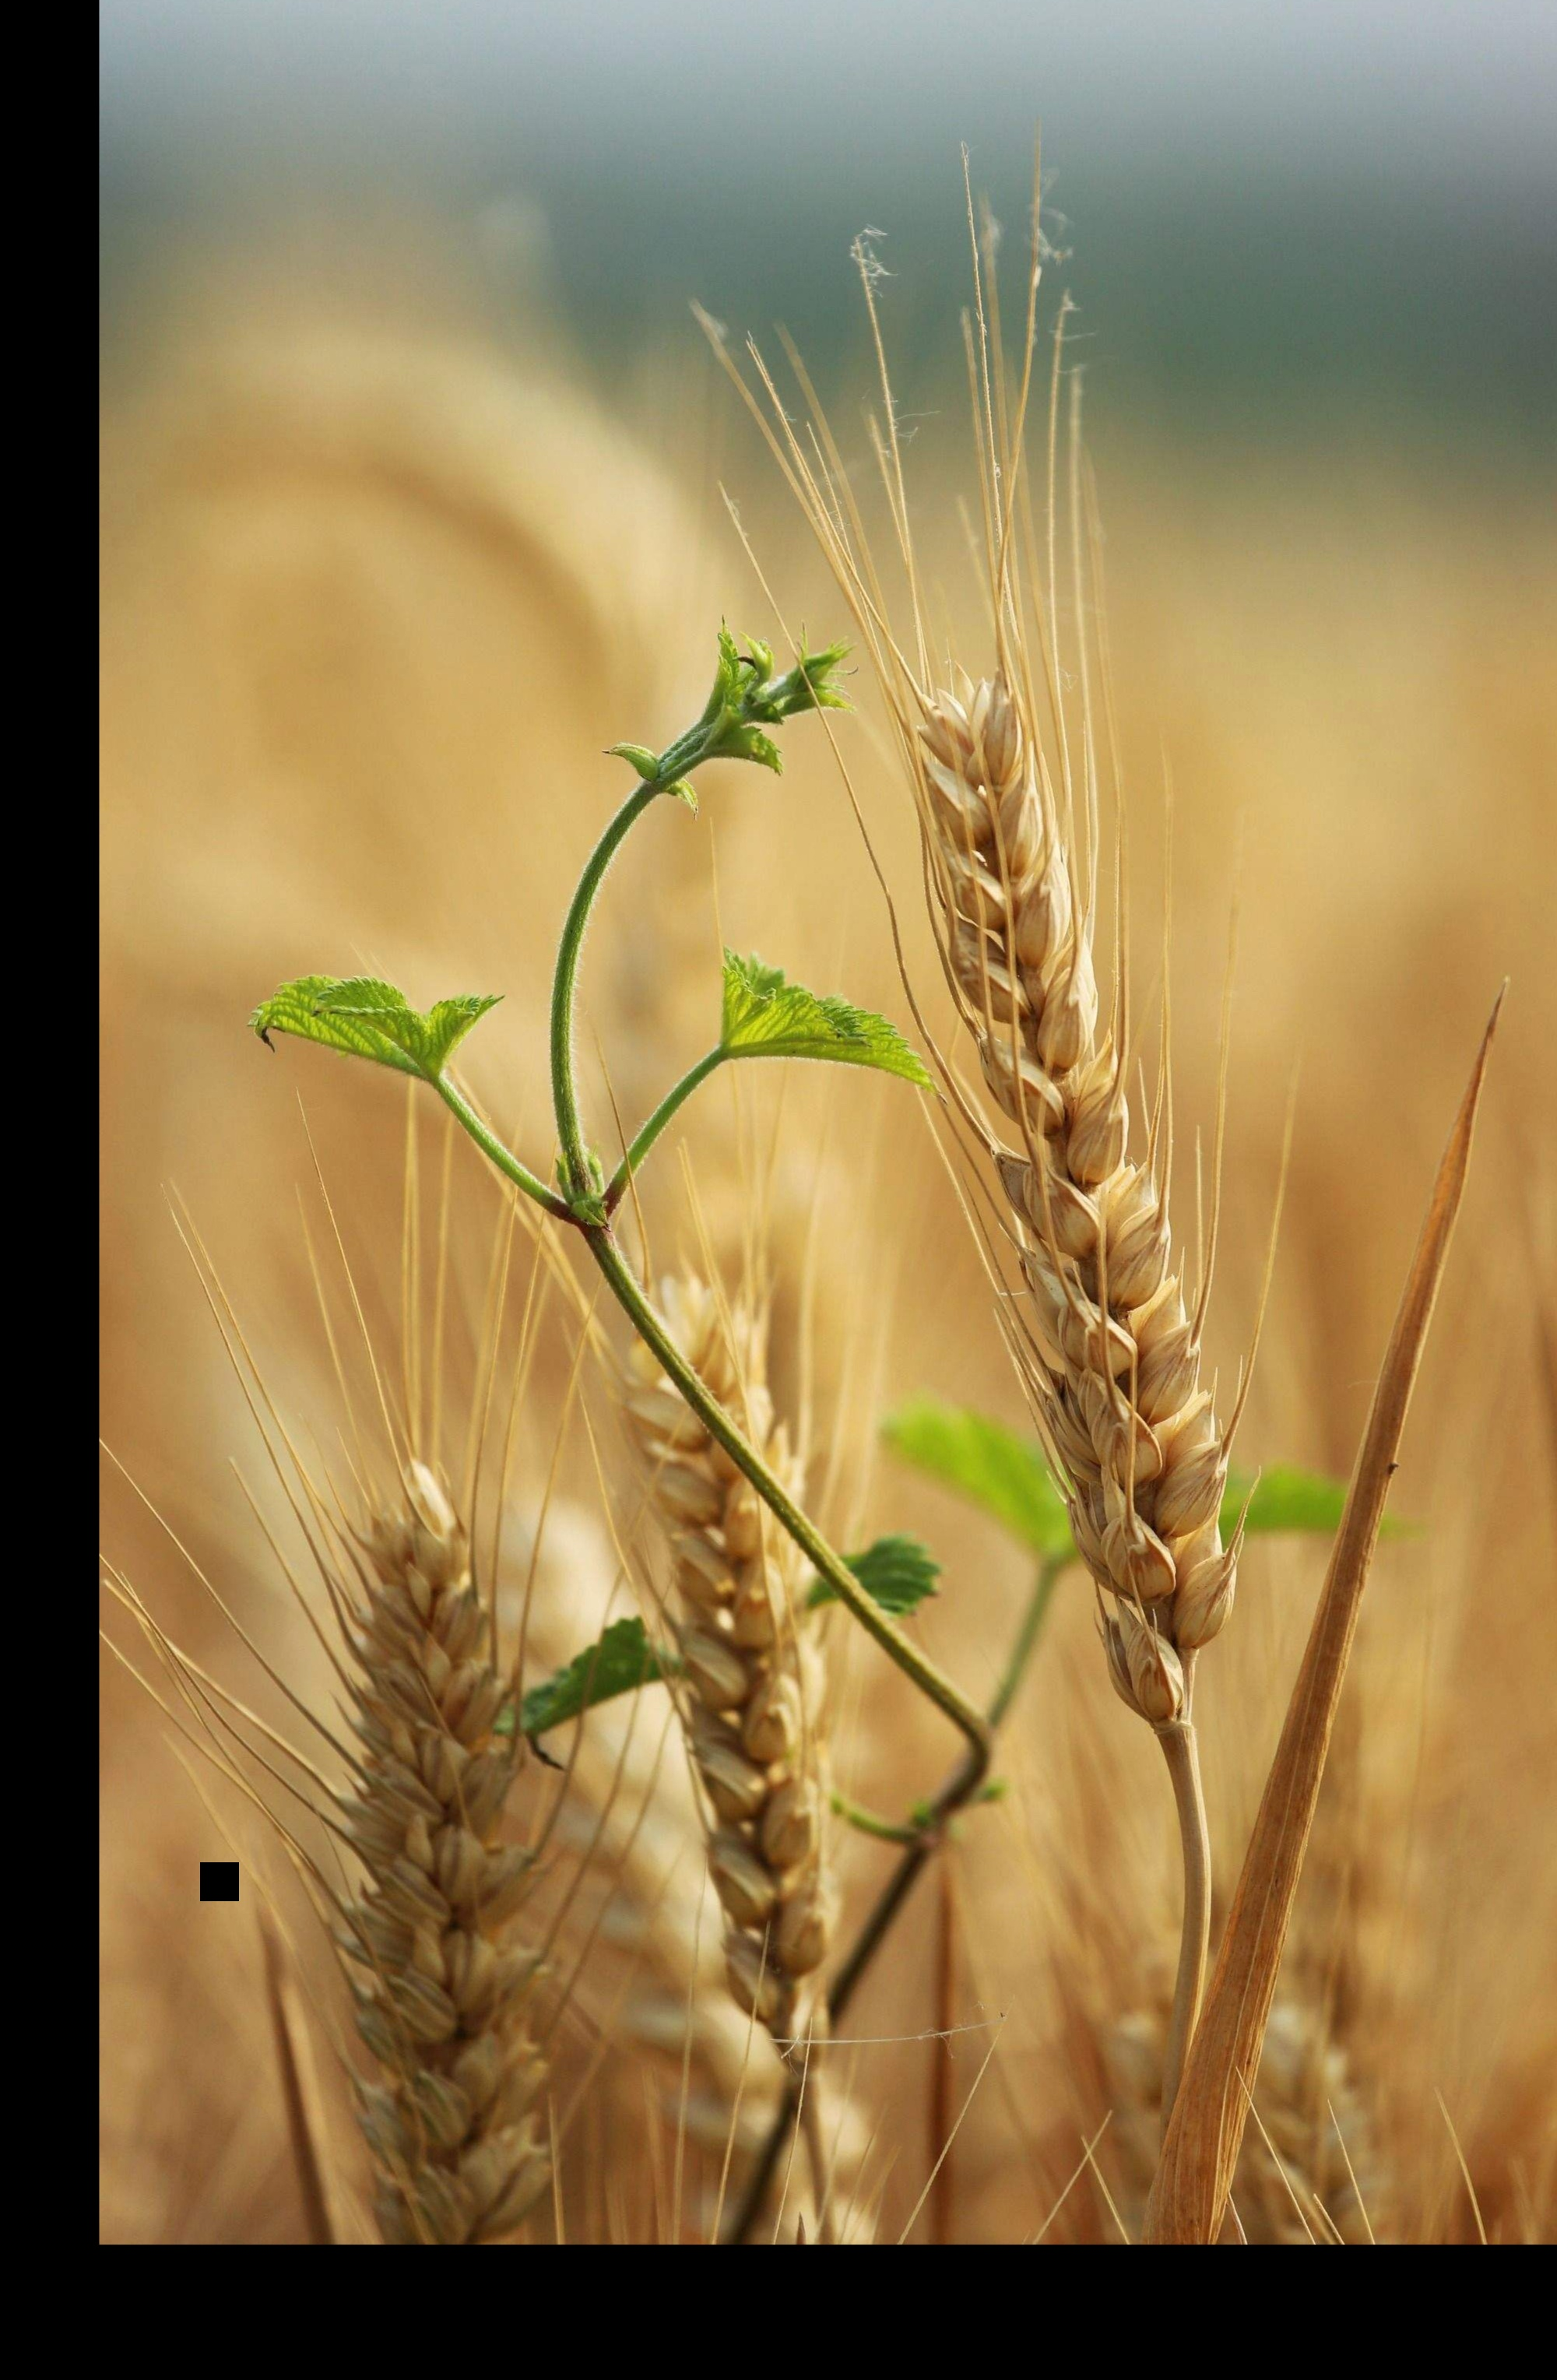wheat: (865, 521, 1288, 1763), (224, 1437, 560, 2222), (633, 1251, 864, 2053)
